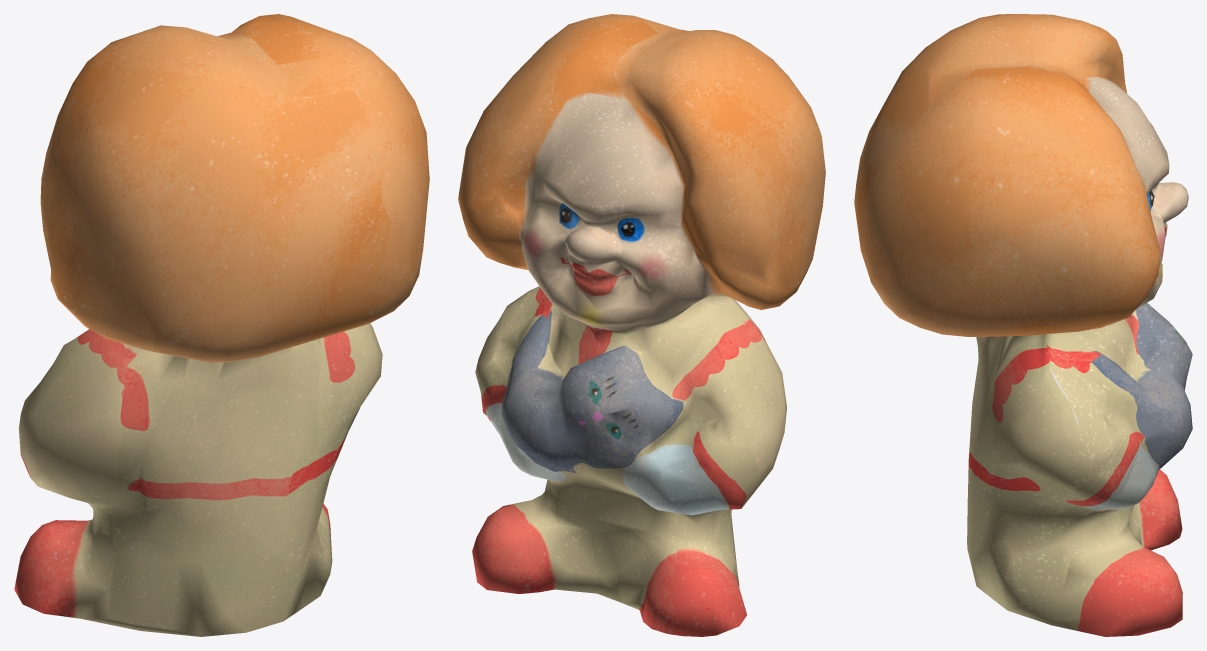
Rendered from Doll.fbx.
3 views of the same model, side by side, from view 1: azimuth 30°, elevation 25°; view 2: azimuth 150°, elevation 25°; view 3: azimuth 270°, elevation 25° (orthographic). The views are drawn at different scales.
Parts seen in each view (by area): view 1: Doll.003; view 2: Doll.003; view 3: Doll.003.
Part boxes in pixels (x1,y1,x2,y2): Doll.003: (14,14,429,636); Doll.003: (458,14,825,636); Doll.003: (854,14,1192,636).
Bounding box in the file's own units: 27.94 × 45.5 × 26.18.
